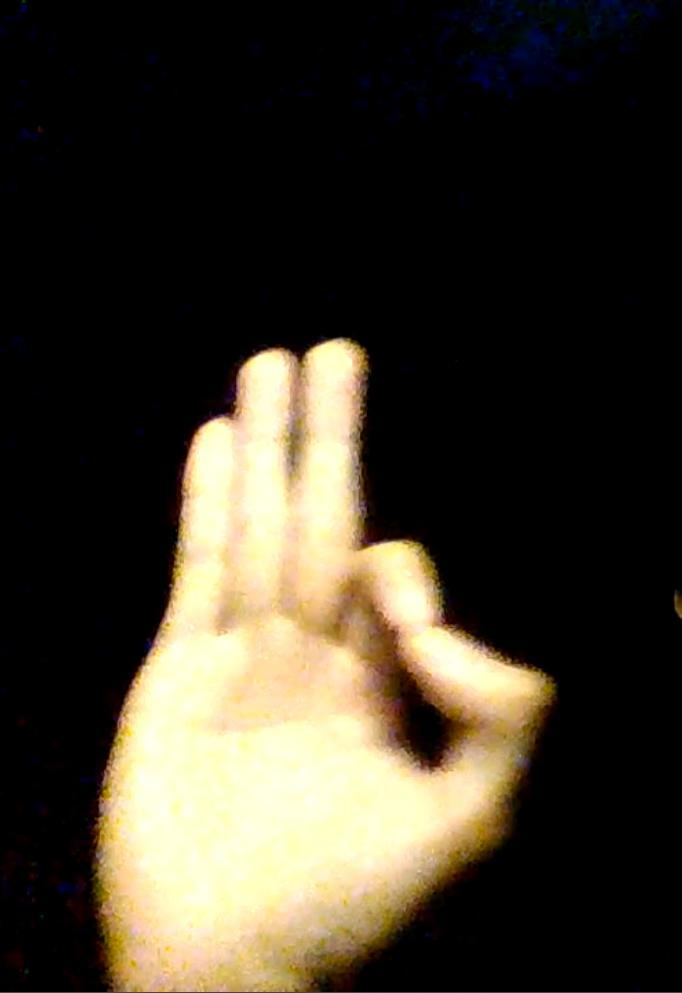f: (94, 344, 557, 993)
